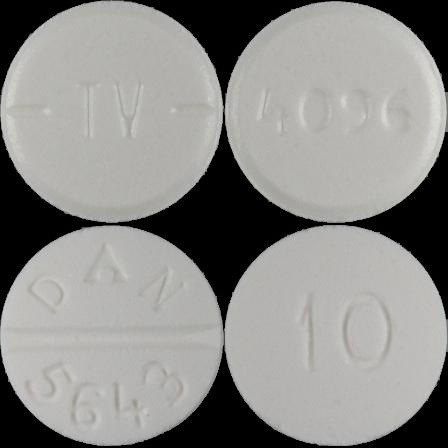54868-3405: (0, 0, 224, 224)
